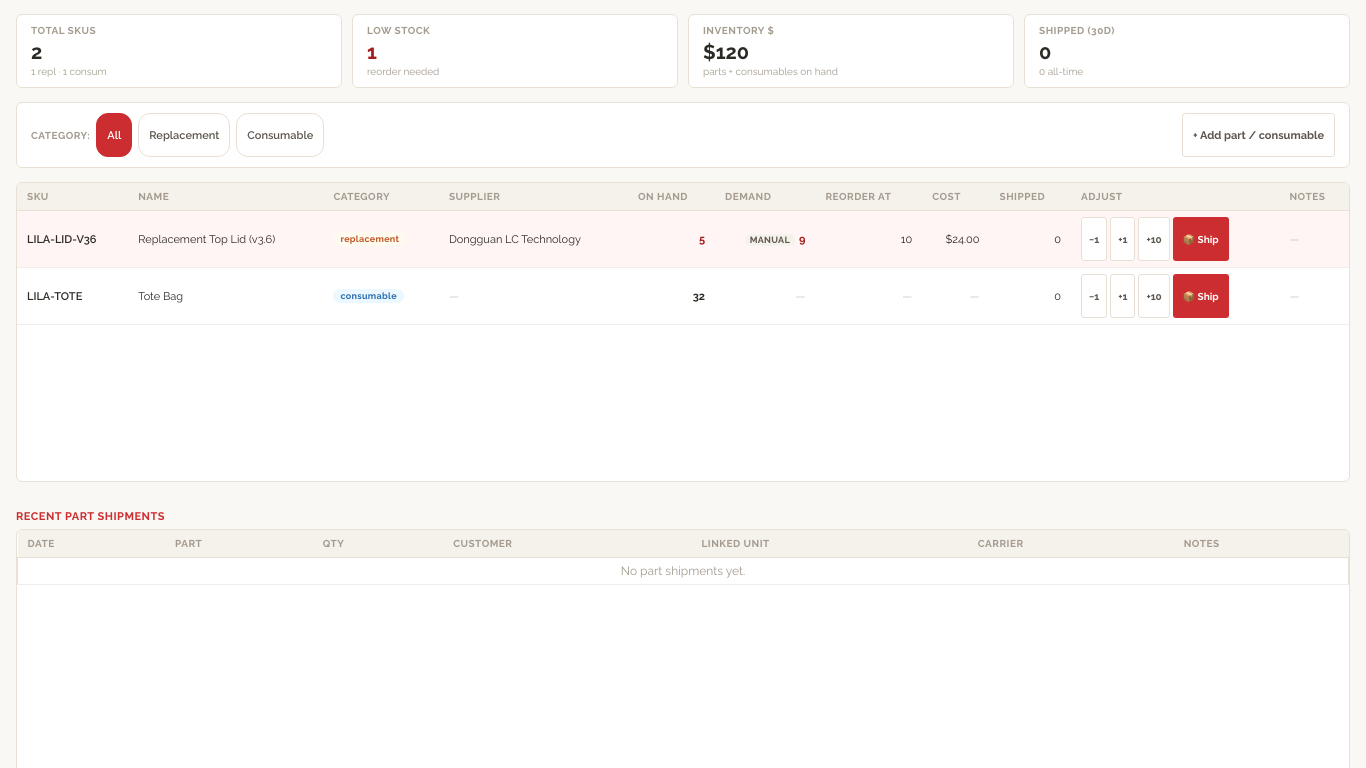
Test case: Stock › Parts — adding a SKU › surfaces a write failure instead of closing the form
This screenshot has width=1366, height=768.
Click the button "+ Add part / consumable" at coordinates (1258, 135), box x1=1182 y1=113 x2=1335 y2=157
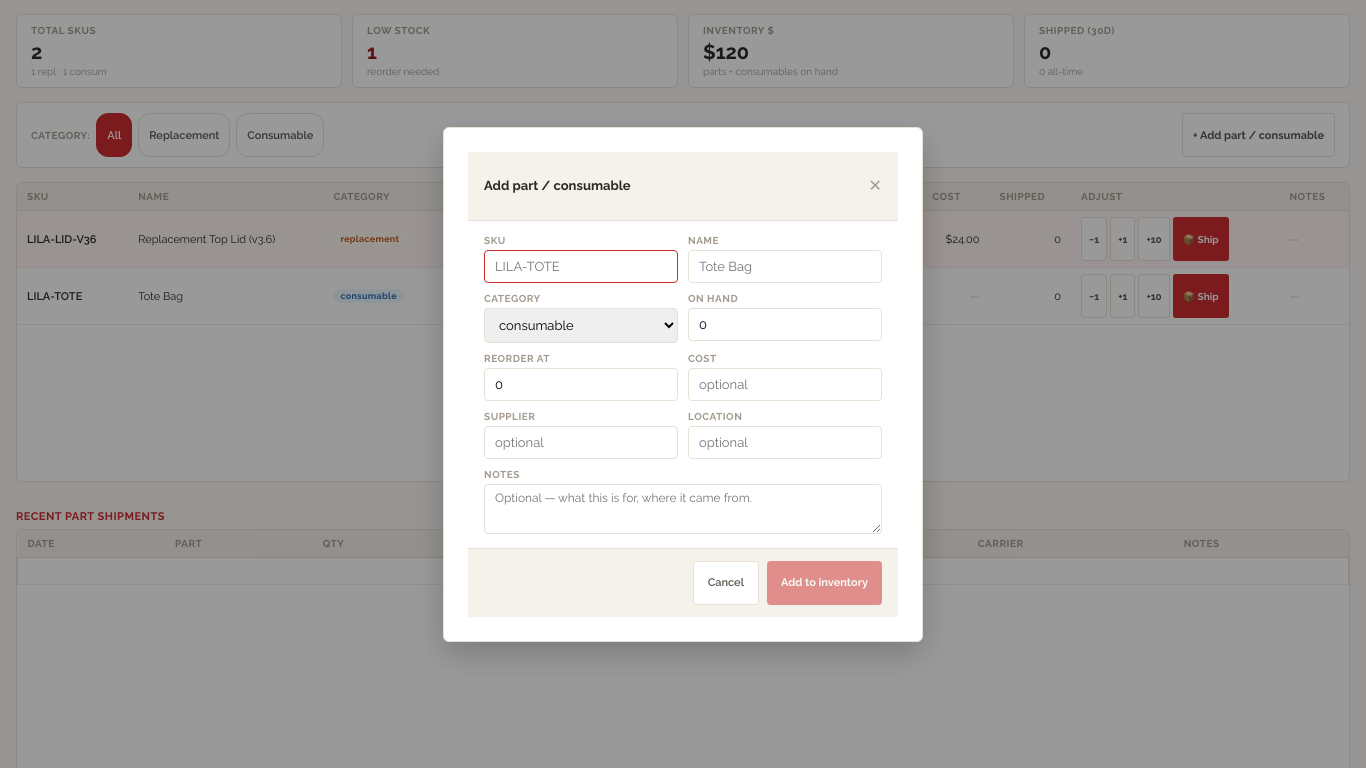
Type "LILA-MAGNET" into the field labelled "SKU" at coordinates (581, 266), box x1=484 y1=250 x2=678 y2=282
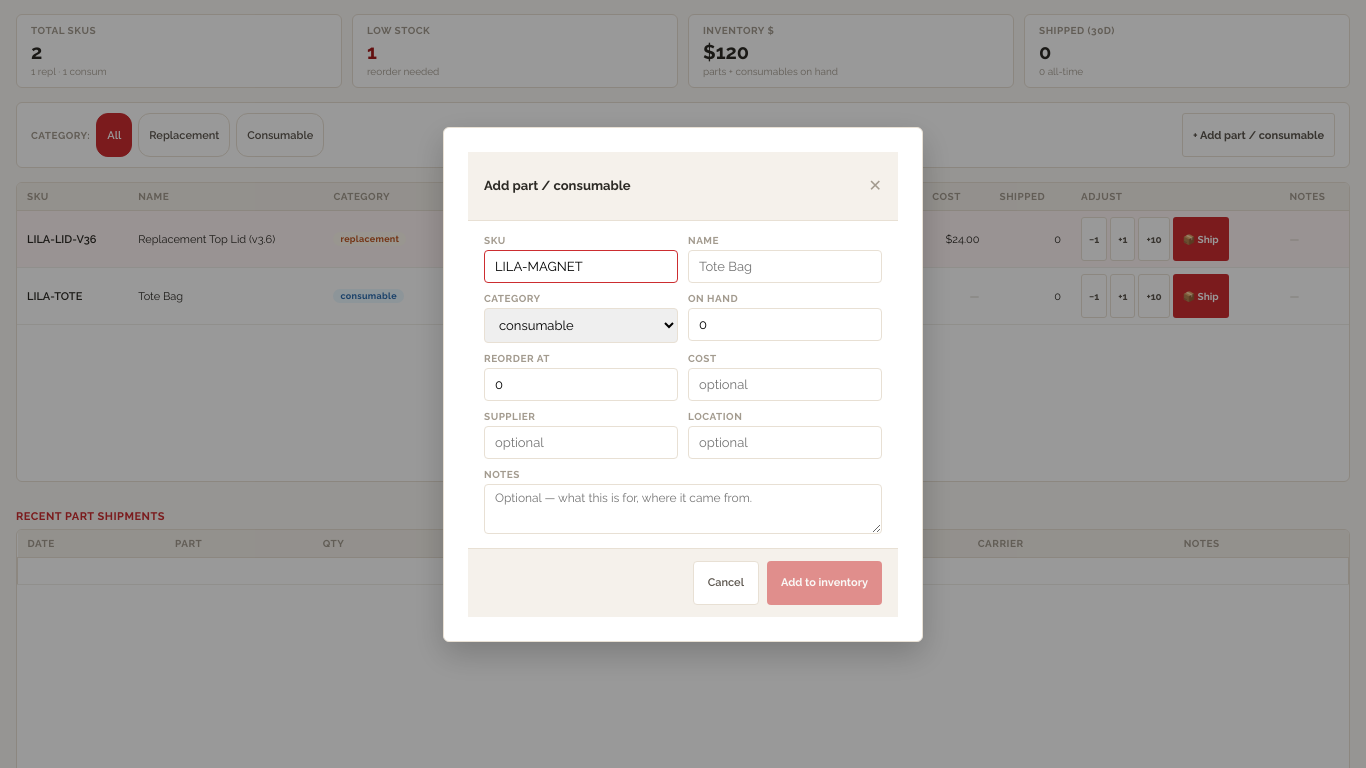
Type "Magnet" into the field labelled "Name" at coordinates (785, 266), box x1=688 y1=250 x2=882 y2=282
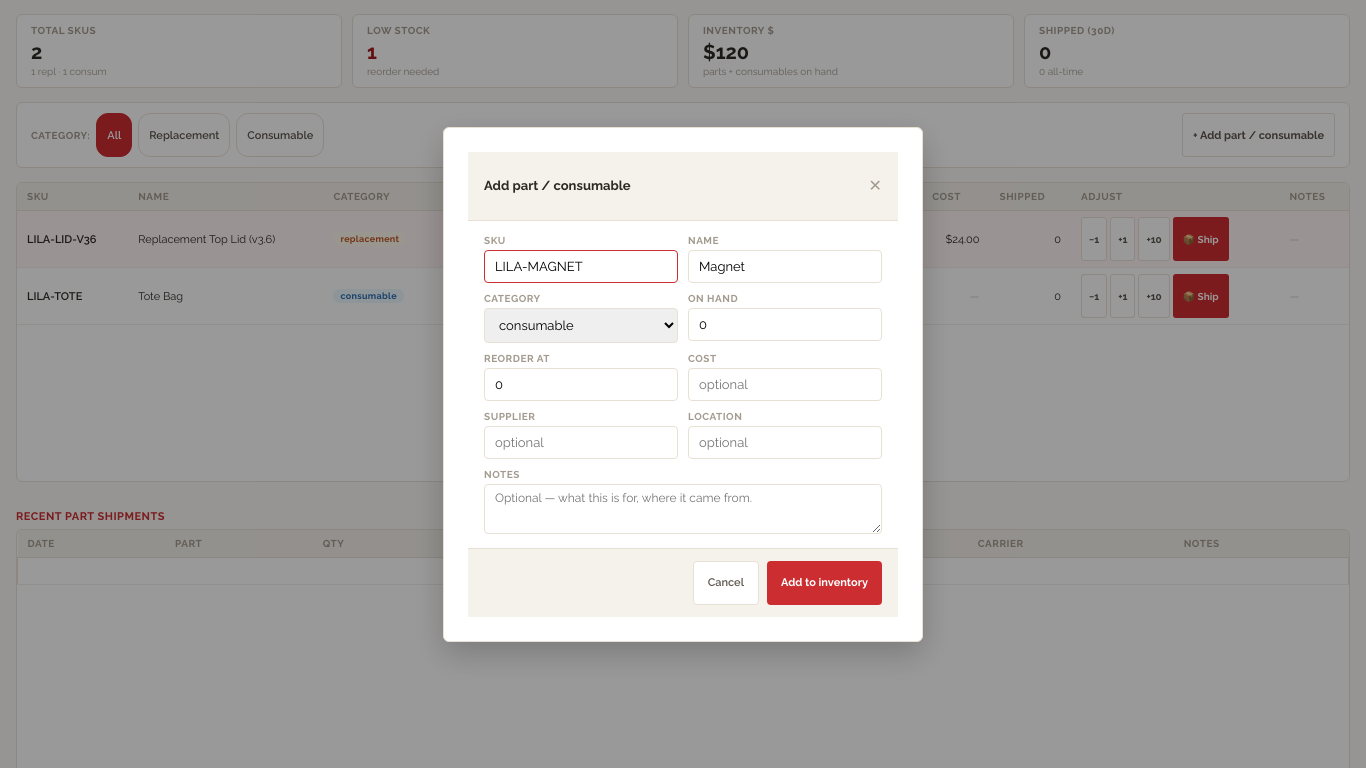
Click the button "Add to inventory" at coordinates (824, 582), box x1=767 y1=560 x2=882 y2=604
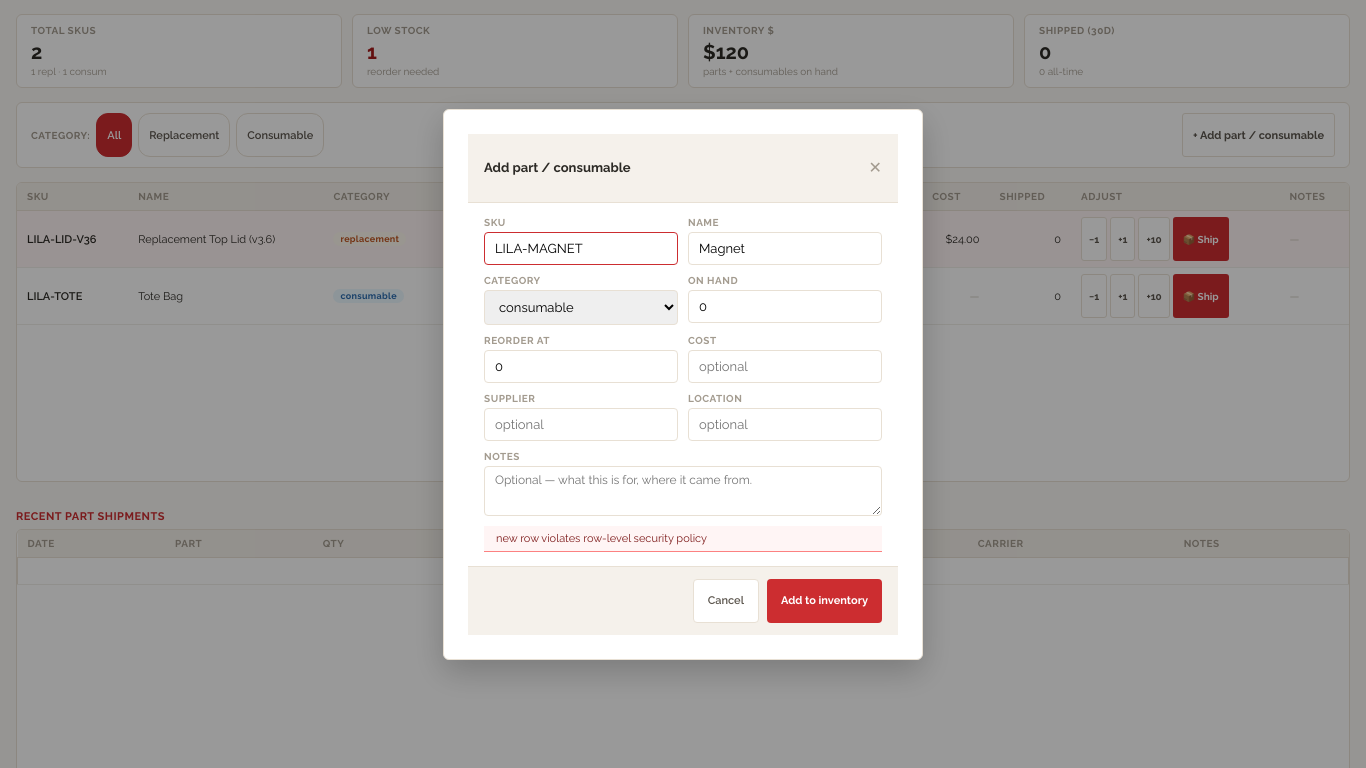
Expected: the button "Add to inventory" is shown, x1=767 y1=578 x2=882 y2=622
Expected: the text "new row violates row-level security policy" is shown, x1=484 y1=526 x2=882 y2=552
